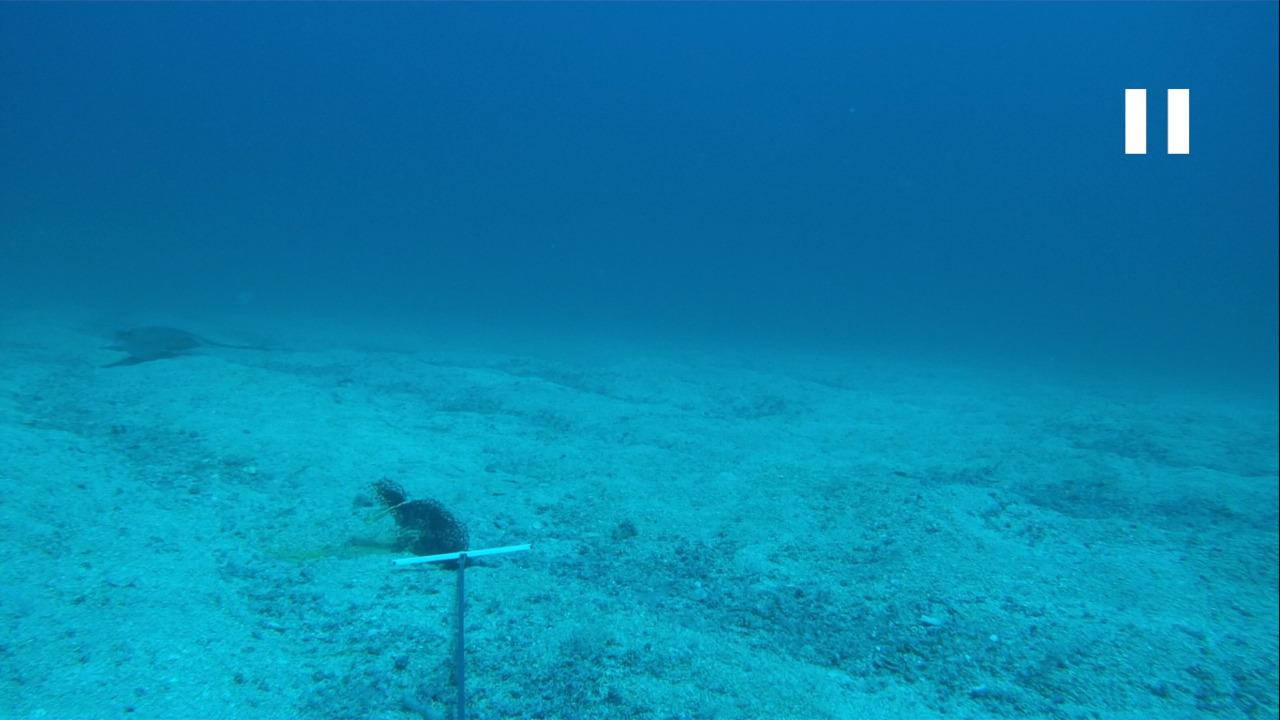myliobatis: (91, 314, 274, 361)
